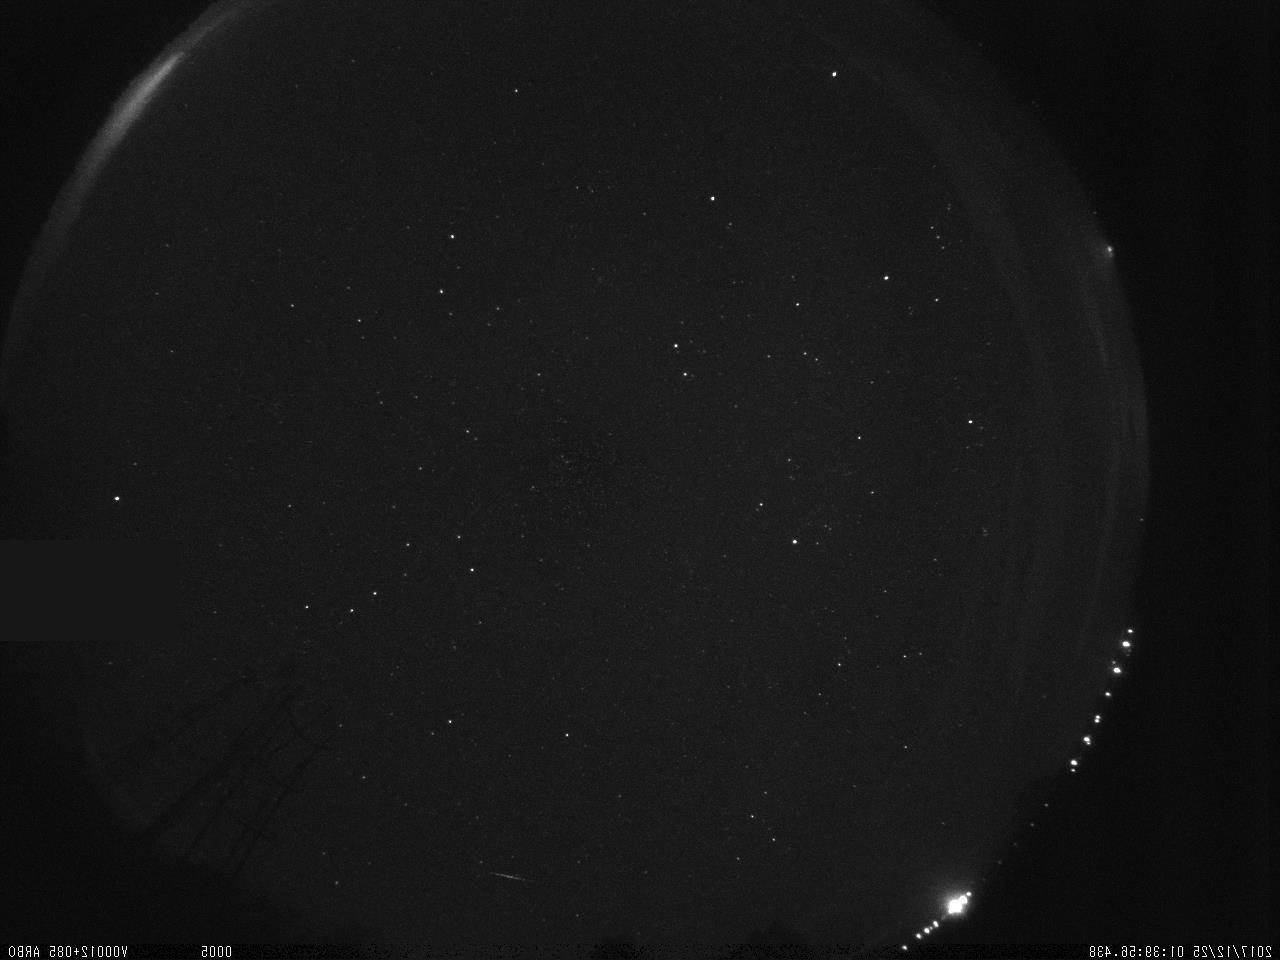meteor: (473, 854, 553, 896)
